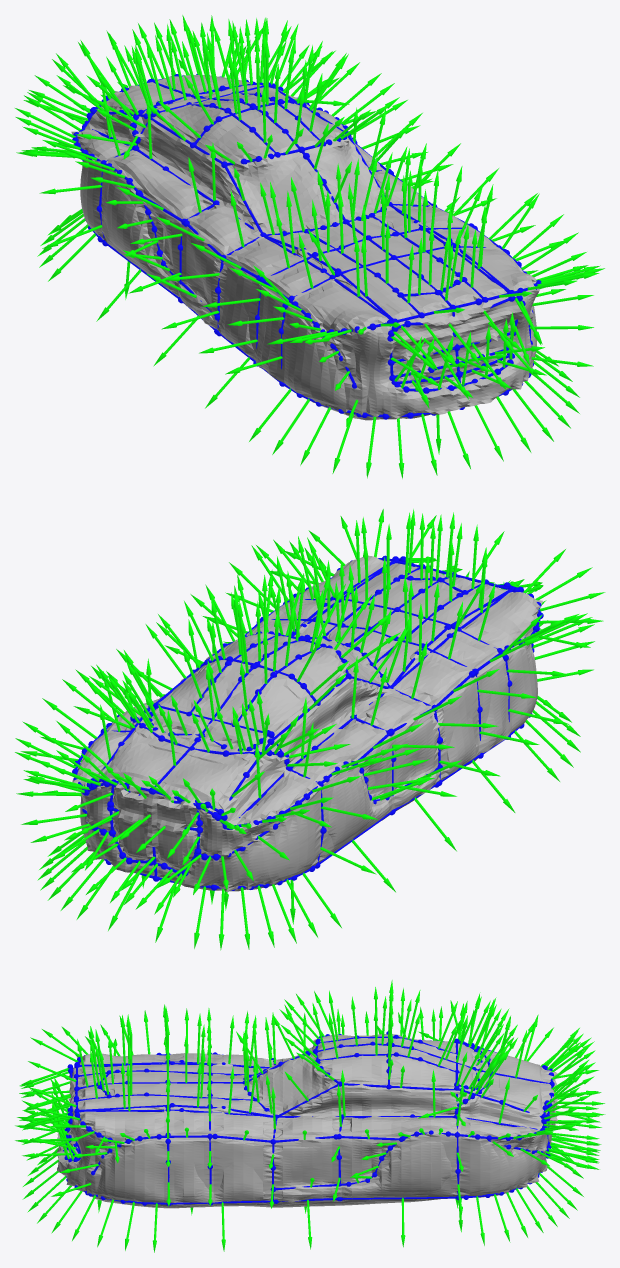
File: t2f_car_97.gltf
3 renders of one model, top to bottom at view 1: azimuth 30°, elevation 25°; view 2: azimuth 150°, elevation 25°; view 3: azimuth 270°, elevation 25°, orthographic. The views are drawn at different scales.
Size of the model in its own units: 0.5738 by 0.4444 by 1.08.
